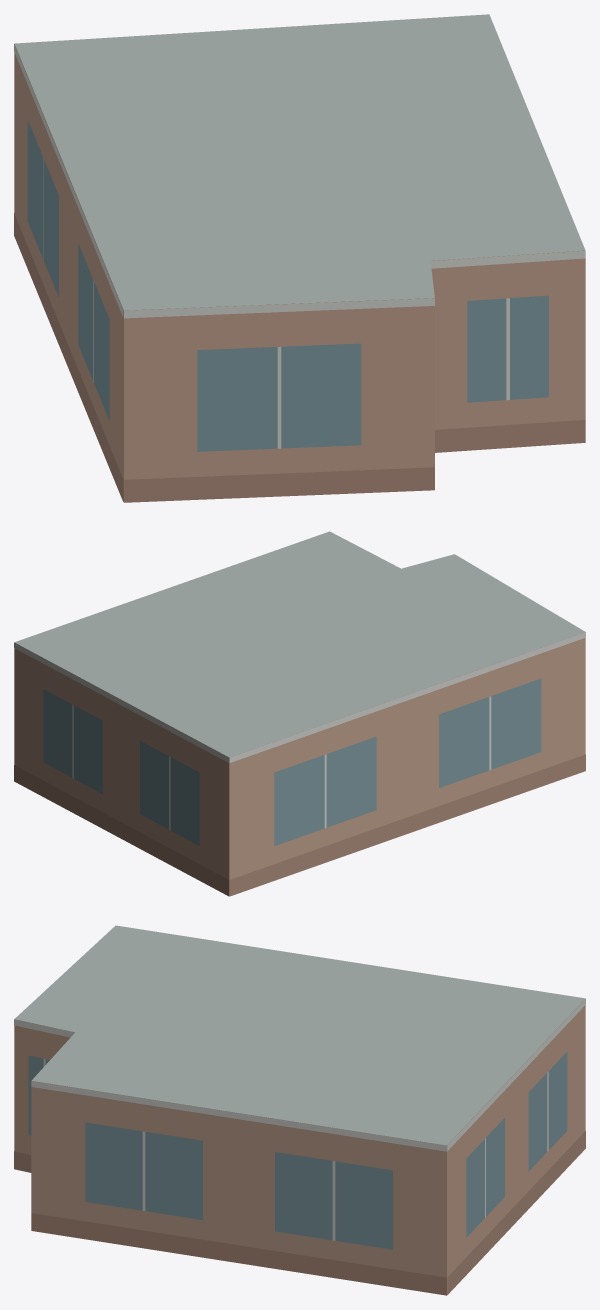
The model's file is survey-upis-32755569.glb.
The picture shows the model from 3 angles, top to bottom: view 1: azimuth 30°, elevation 25°; view 2: azimuth 150°, elevation 25°; view 3: azimuth 270°, elevation 25°; orthographic projection. The views are drawn at different scales.
Parts seen in each view (by area): view 1: survey-upis-32755569.tmp; view 2: survey-upis-32755569.tmp; view 3: survey-upis-32755569.tmp.
Part boxes in pixels (x1,y1,x2,y2): survey-upis-32755569.tmp: (14, 14, 585, 502); survey-upis-32755569.tmp: (14, 531, 585, 896); survey-upis-32755569.tmp: (14, 925, 585, 1295).
Size of the model in its own units: 9.61 by 3.05 by 10.54.
